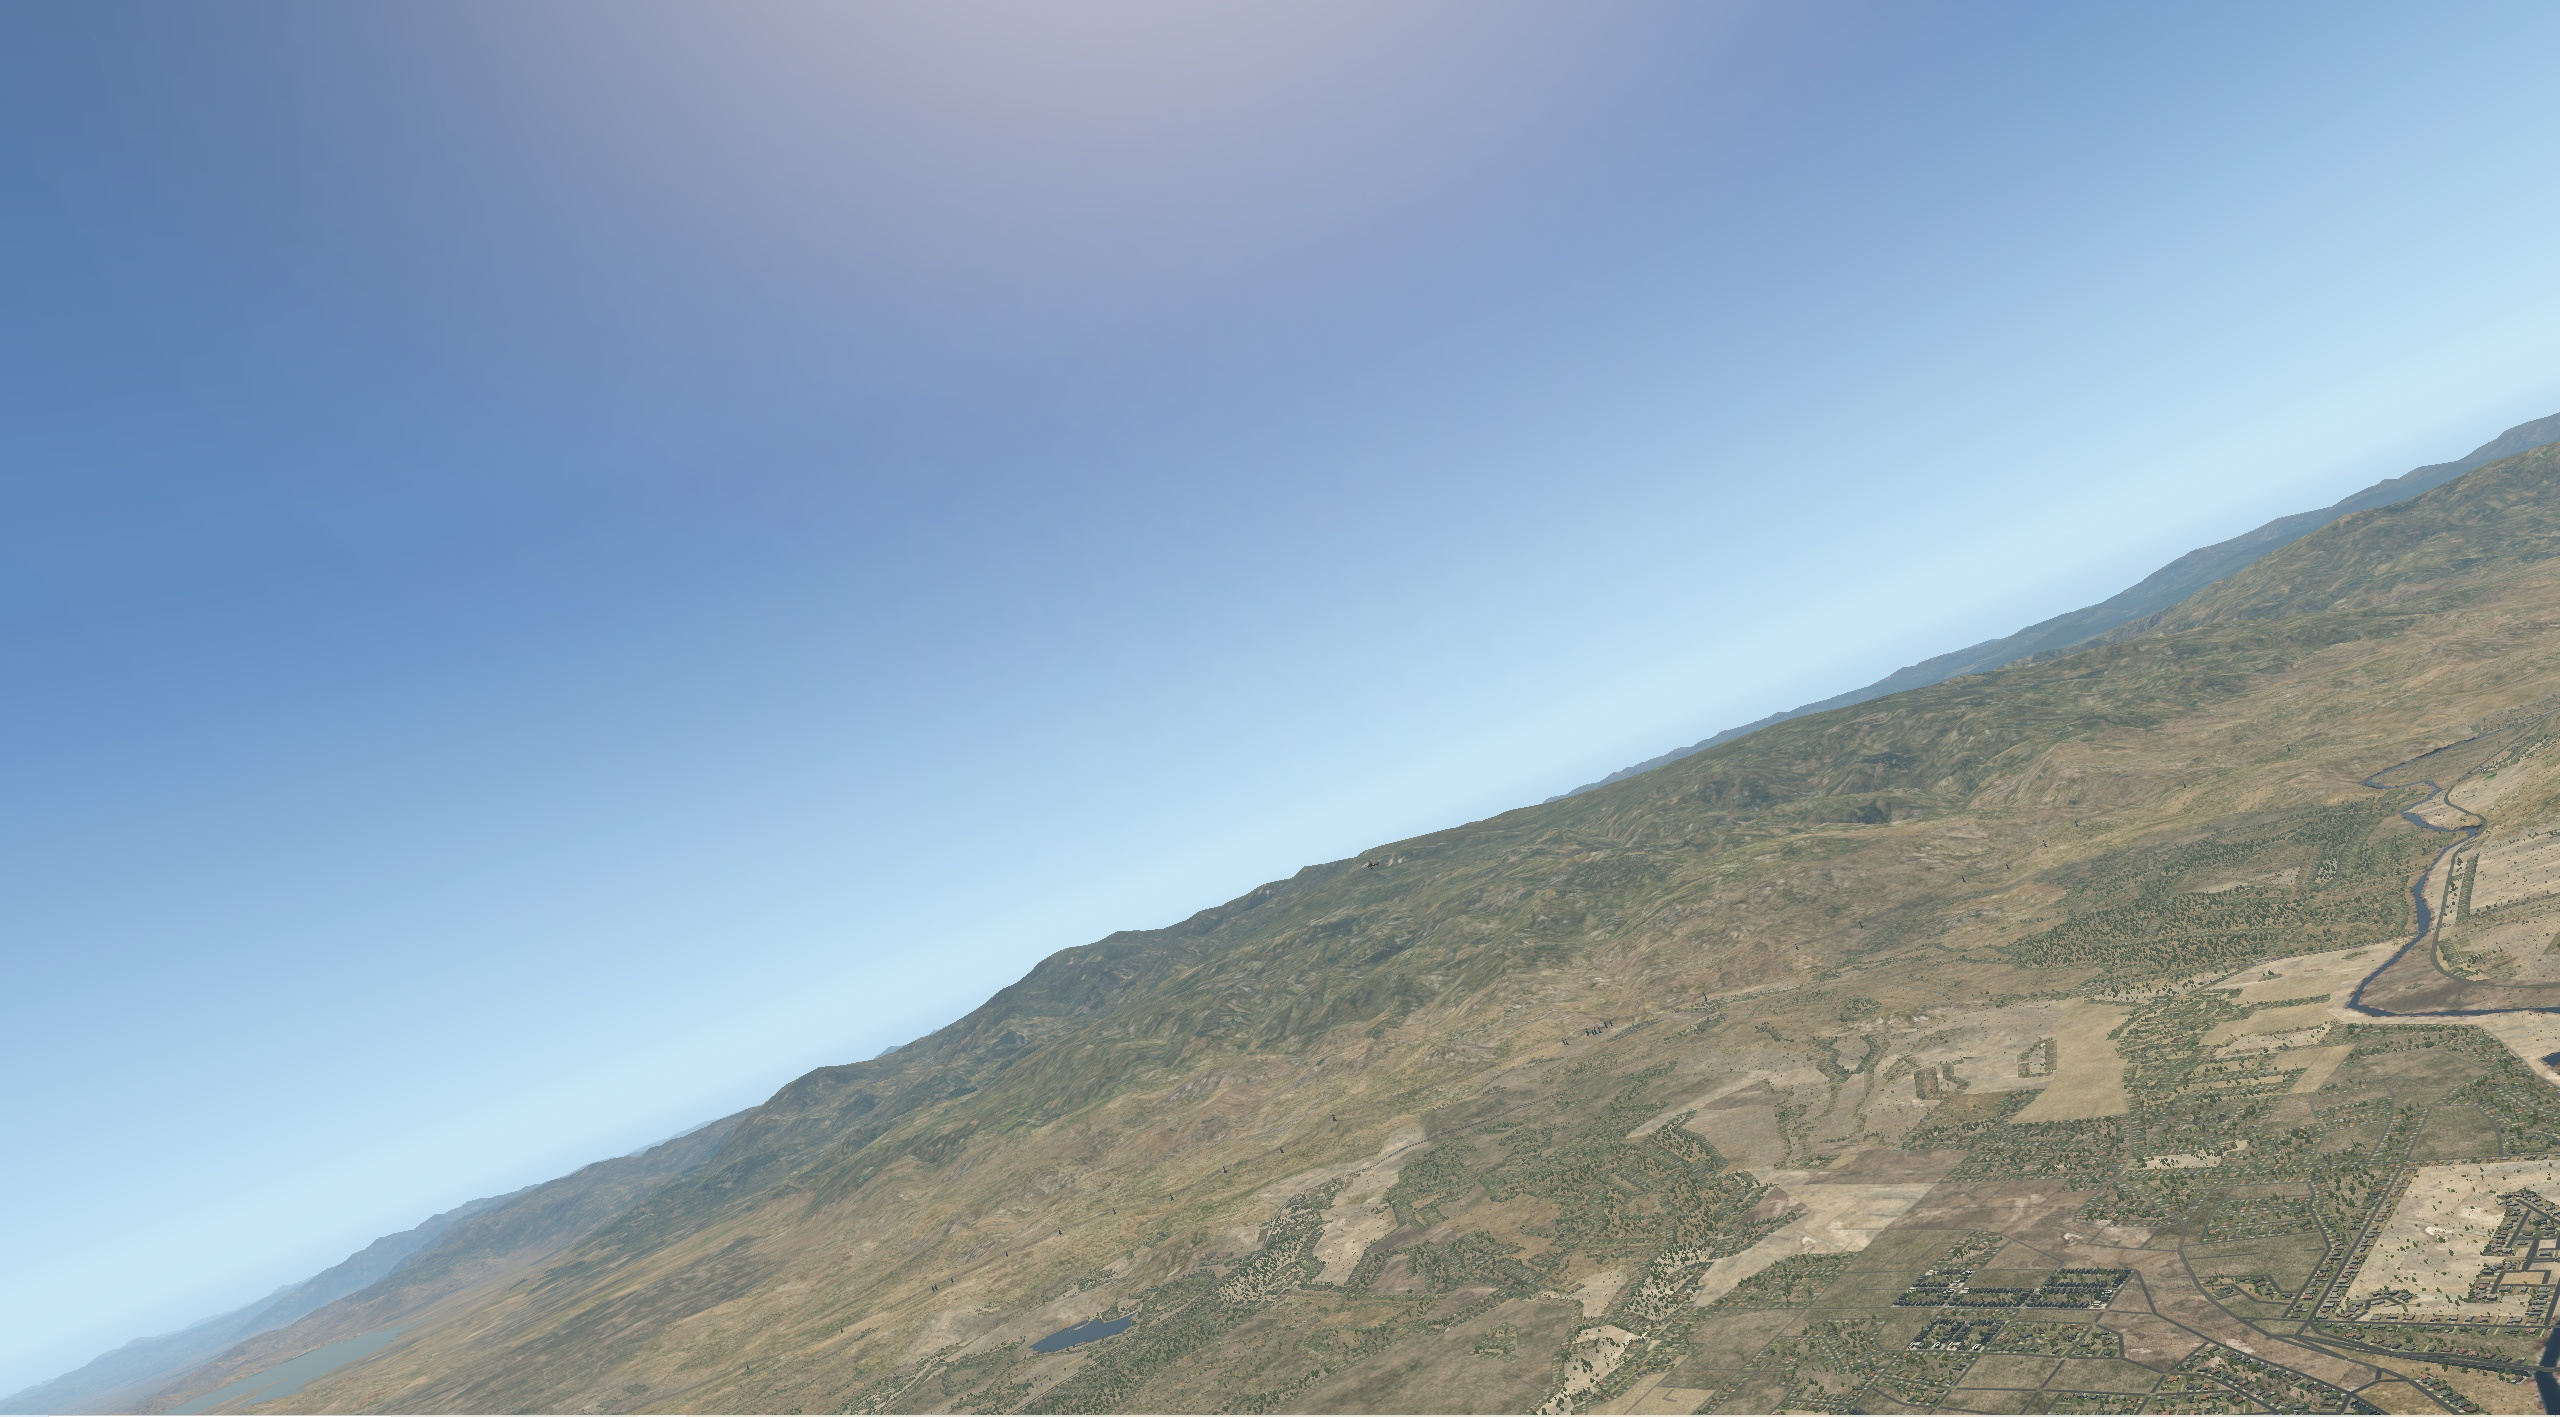aircraft: (1359, 862, 1380, 871)
